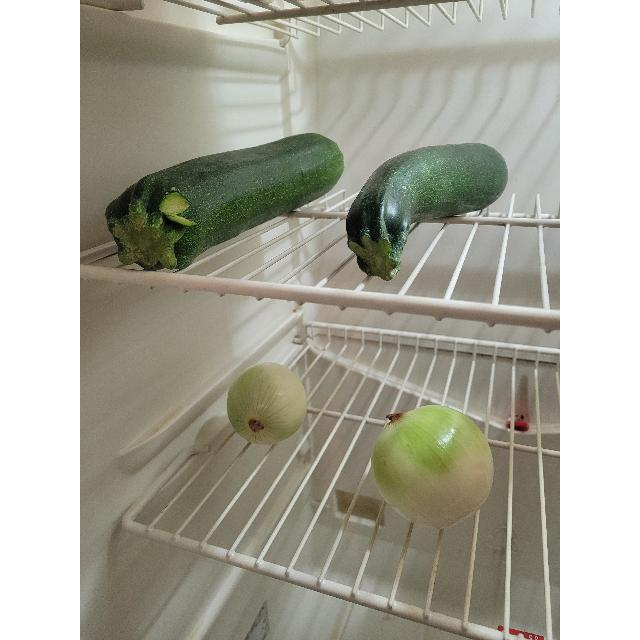onion: (378, 404, 494, 526), (232, 365, 304, 445)
zucchini: (113, 137, 340, 259), (350, 140, 506, 276)
